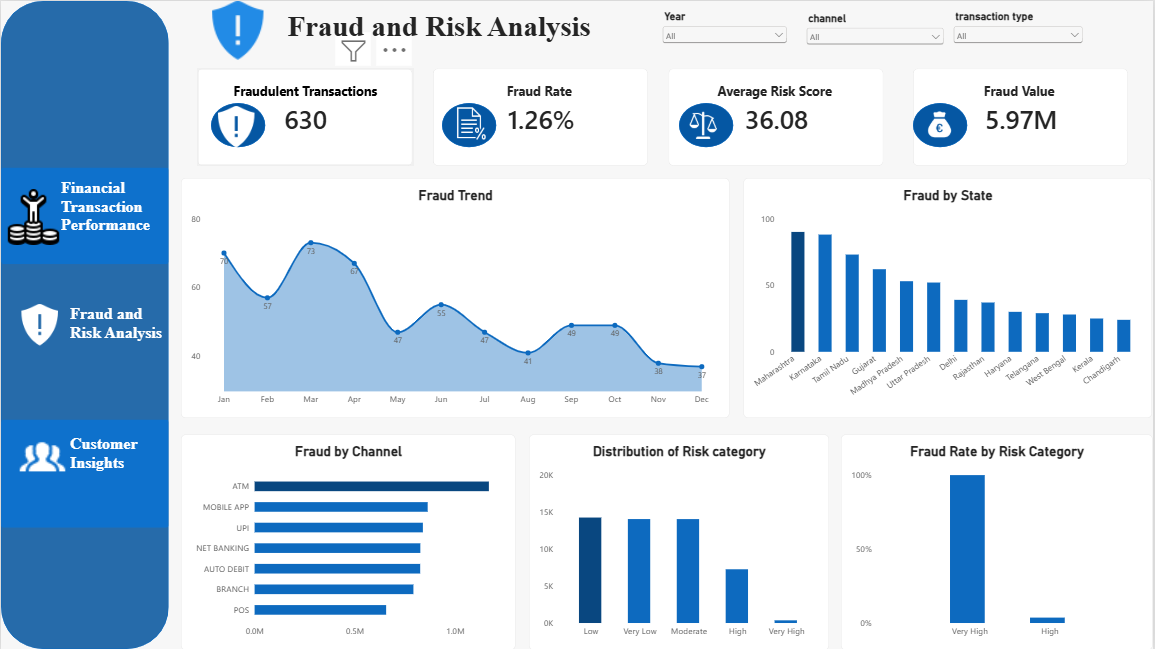

What the dashboard file says about the page in this screenshot:
{"tool":"powerbi","page":{"name":"Fraud and Risk Analysis","canvas":[1920,1080],"ordinal":1},"visuals":[{"type":"shape","box":[0,0,279.5,1080],"z":0},{"type":"cardVisual","fields":{"Data":["finance finance_transaction_cleaned.Fraud"]},"box":[328.3,113.2,358.5,162.3],"z":1000},{"type":"cardVisual","fields":{"Data":["finance finance_transaction_cleaned.Fraud Rate"]},"box":[718.9,113.2,358.5,162.3],"z":2000},{"type":"cardVisual","fields":{"Data":["finance finance_transaction_cleaned.Average risk score"]},"box":[1113.2,113.2,358.5,162.3],"z":3000},{"type":"cardVisual","fields":{"Data":["finance customer_cleaned.Fraud Amount"]},"box":[1518.9,113.2,358.5,162.3],"z":4000},{"type":"stackedAreaChart","title":"Fraud Trend","fields":{"Category":["finance finance_transaction_cleaned.Month Short"],"Y":["finance finance_transaction_cleaned.Fraud"]},"box":[300,295.2,914.3,400],"z":5000},{"type":"textbox","box":[478.4,14.2,549.5,82.9],"z":6000},{"type":"clusteredColumnChart","title":"Fraud by State","fields":{"Category":["finance customer_cleaned.state"],"Y":["finance finance_transaction_cleaned.Fraud"]},"box":[1238.1,295.2,681,400],"z":7000},{"type":"clusteredBarChart","title":"Fraud by Channel","fields":{"Category":["finance finance_transaction_cleaned.channel"],"Y":["finance finance_transaction_cleaned.Fraud Amount"]},"box":[300,721.4,557.1,359.5],"z":8000},{"type":"clusteredColumnChart","title":"Distribution of Risk category","fields":{"Category":["finance finance_transaction_cleaned.Risk Category"],"Y":["CountNonNull(finance finance_transaction_cleaned.transaction_id)"]},"box":[881,721.4,500,359.5],"z":9000},{"type":"clusteredColumnChart","title":"Fraud Rate by Risk Category","fields":{"Category":["finance finance_transaction_cleaned.Risk Category"],"Y":["finance finance_transaction_cleaned.Fraud Rate"]},"box":[1400,721.4,519,359.5],"z":10000},{"type":"textbox","box":[350,135.7,314.3,31],"z":11000},{"type":"textbox","box":[735.7,135.7,323.8,31],"z":12000},{"type":"textbox","box":[1131,135.7,319,31],"z":13000},{"type":"textbox","box":[1535.7,135.7,323.8,31],"z":14000},{"type":"shape","box":[350,169,90.5,73.8],"z":15000},{"type":"shape","box":[1519,169,90.5,73.8],"z":16000},{"type":"shape","box":[1131,169,90.5,73.8],"z":17000},{"type":"shape","box":[735.7,169,90.5,73.8],"z":18000},{"type":"slicer","fields":{"Values":["finance finance_transaction_cleaned.transaction_date.Variation.Date Hierarchy.Year"]},"box":[1097.9,15,217,73.1],"z":19000},{"type":"slicer","fields":{"Values":["finance finance_transaction_cleaned.channel"]},"box":[1336.4,17.2,238.5,70.9],"z":20000},{"type":"slicer","fields":{"Values":["finance finance_transaction_cleaned.transaction_type"]},"box":[1582.1,14.2,225,71.1],"z":21000},{"type":"actionButton","box":[0,277.2,279.3,161.1],"z":22000},{"type":"actionButton","box":[0,698.3,279.3,180.5],"z":23000},{"type":"actionButton","box":[0,489.9,279.3,163.3],"z":24000},{"type":"image","box":[310.2,0,169.4,97.8],"z":24001},{"type":"image","box":[21.5,720.5,93.1,76.3],"z":24002},{"type":"image","box":[350.7,174.2,83.5,69.2],"z":24003},{"type":"image","box":[21.5,505.8,83.5,69.2],"z":24004},{"type":"image","box":[8.6,309.4,93.1,100.2],"z":24006},{"type":"textbox","box":[113.9,721.9,165.4,75.2],"z":24007},{"type":"textbox","box":[113.9,504.9,165.4,107.4],"z":24008},{"type":"textbox","box":[101,294.4,178.3,116],"z":24009},{"type":"image","box":[741.3,174,75.2,55.9],"z":24010},{"type":"image","box":[1125.9,182.6,90.2,49.4],"z":24011},{"type":"image","box":[1519.1,180.5,90.2,51.6],"z":24012}]}

Visuals, with their boxes in screenshot pixels (x1, y1, x2, y2), scaled from the page's 1920x1080 canvas onto the 1155x649 screenshot:
shape: locate(0, 0, 168, 648)
cardVisual - finance finance_transaction_cleaned.Fraud: locate(197, 68, 413, 166)
cardVisual - finance finance_transaction_cleaned.Fraud Rate: locate(432, 68, 648, 166)
cardVisual - finance finance_transaction_cleaned.Average risk score: locate(670, 68, 885, 166)
cardVisual - finance customer_cleaned.Fraud Amount: locate(914, 68, 1129, 166)
"Fraud Trend" stackedAreaChart: locate(180, 177, 730, 418)
textbox: locate(288, 9, 618, 58)
"Fraud by State" clusteredColumnChart: locate(745, 177, 1154, 418)
"Fraud by Channel" clusteredBarChart: locate(180, 434, 516, 648)
"Distribution of Risk category" clusteredColumnChart: locate(530, 434, 831, 648)
"Fraud Rate by Risk Category" clusteredColumnChart: locate(842, 434, 1154, 648)
textbox: locate(211, 82, 400, 100)
textbox: locate(443, 82, 637, 100)
textbox: locate(680, 82, 872, 100)
textbox: locate(924, 82, 1119, 100)
shape: locate(211, 102, 265, 146)
shape: locate(914, 102, 968, 146)
shape: locate(680, 102, 735, 146)
shape: locate(443, 102, 497, 146)
slicer - finance finance_transaction_cleaned.transaction_date.Variation.Date Hierarchy.Year: locate(660, 9, 791, 53)
slicer - finance finance_transaction_cleaned.channel: locate(804, 10, 947, 53)
slicer - finance finance_transaction_cleaned.transaction_type: locate(952, 9, 1087, 51)
actionButton: locate(0, 167, 168, 263)
actionButton: locate(0, 420, 168, 528)
actionButton: locate(0, 294, 168, 393)
image: locate(187, 0, 289, 59)
image: locate(13, 433, 69, 479)
image: locate(211, 105, 261, 146)
image: locate(13, 304, 63, 346)
image: locate(5, 186, 61, 246)
textbox: locate(69, 434, 168, 479)
textbox: locate(69, 303, 168, 368)
textbox: locate(61, 177, 168, 247)
image: locate(446, 105, 491, 138)
image: locate(677, 110, 732, 139)
image: locate(914, 108, 968, 139)
